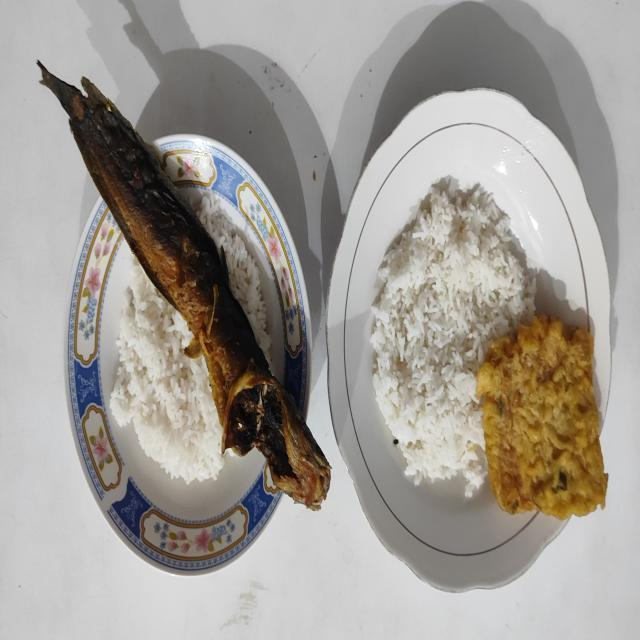nasi_putih: (370, 177, 538, 497), (110, 255, 226, 484), (198, 195, 271, 360)
